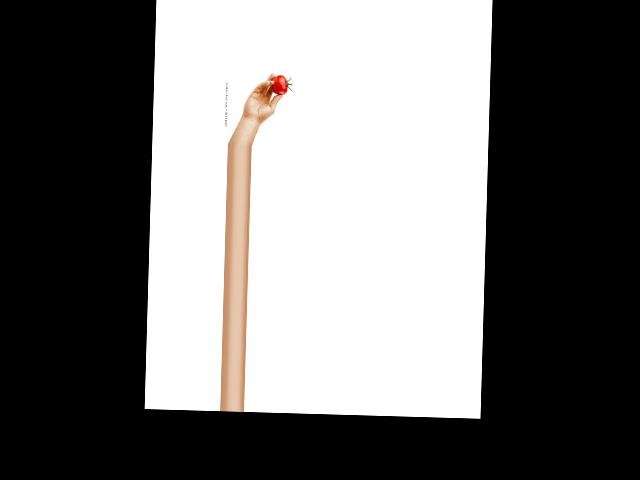tomato: (270, 75, 287, 95)
